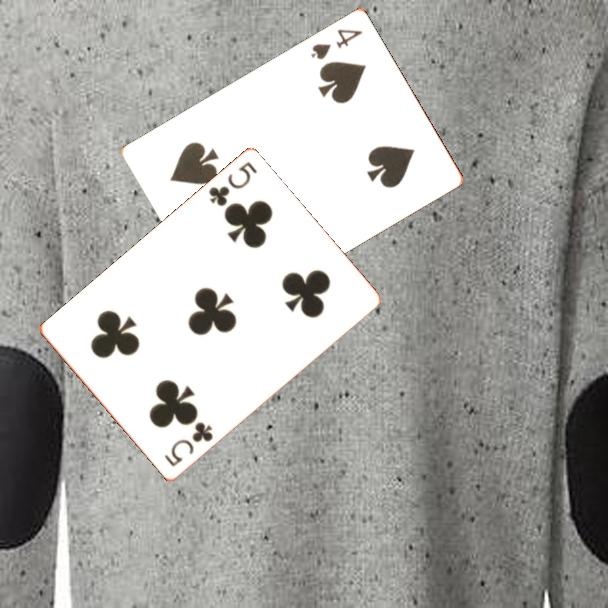c05: (161, 418, 216, 470), (205, 158, 260, 210)
s04: (307, 25, 366, 62)
